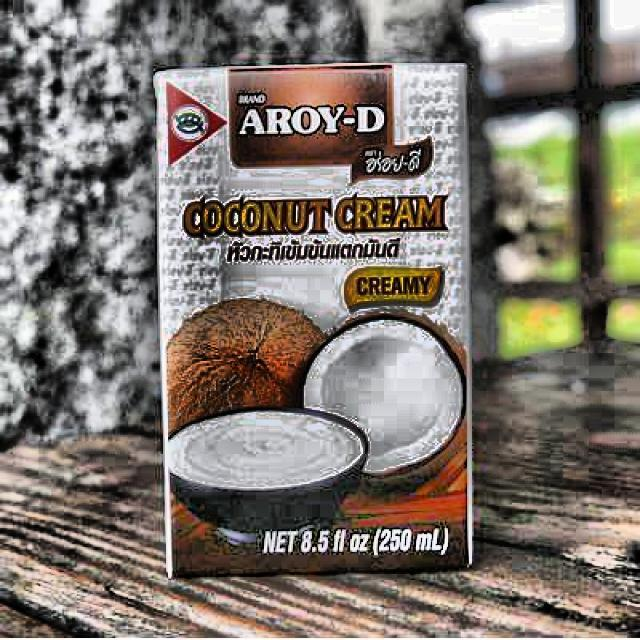cardboard: (152, 59, 474, 578)
